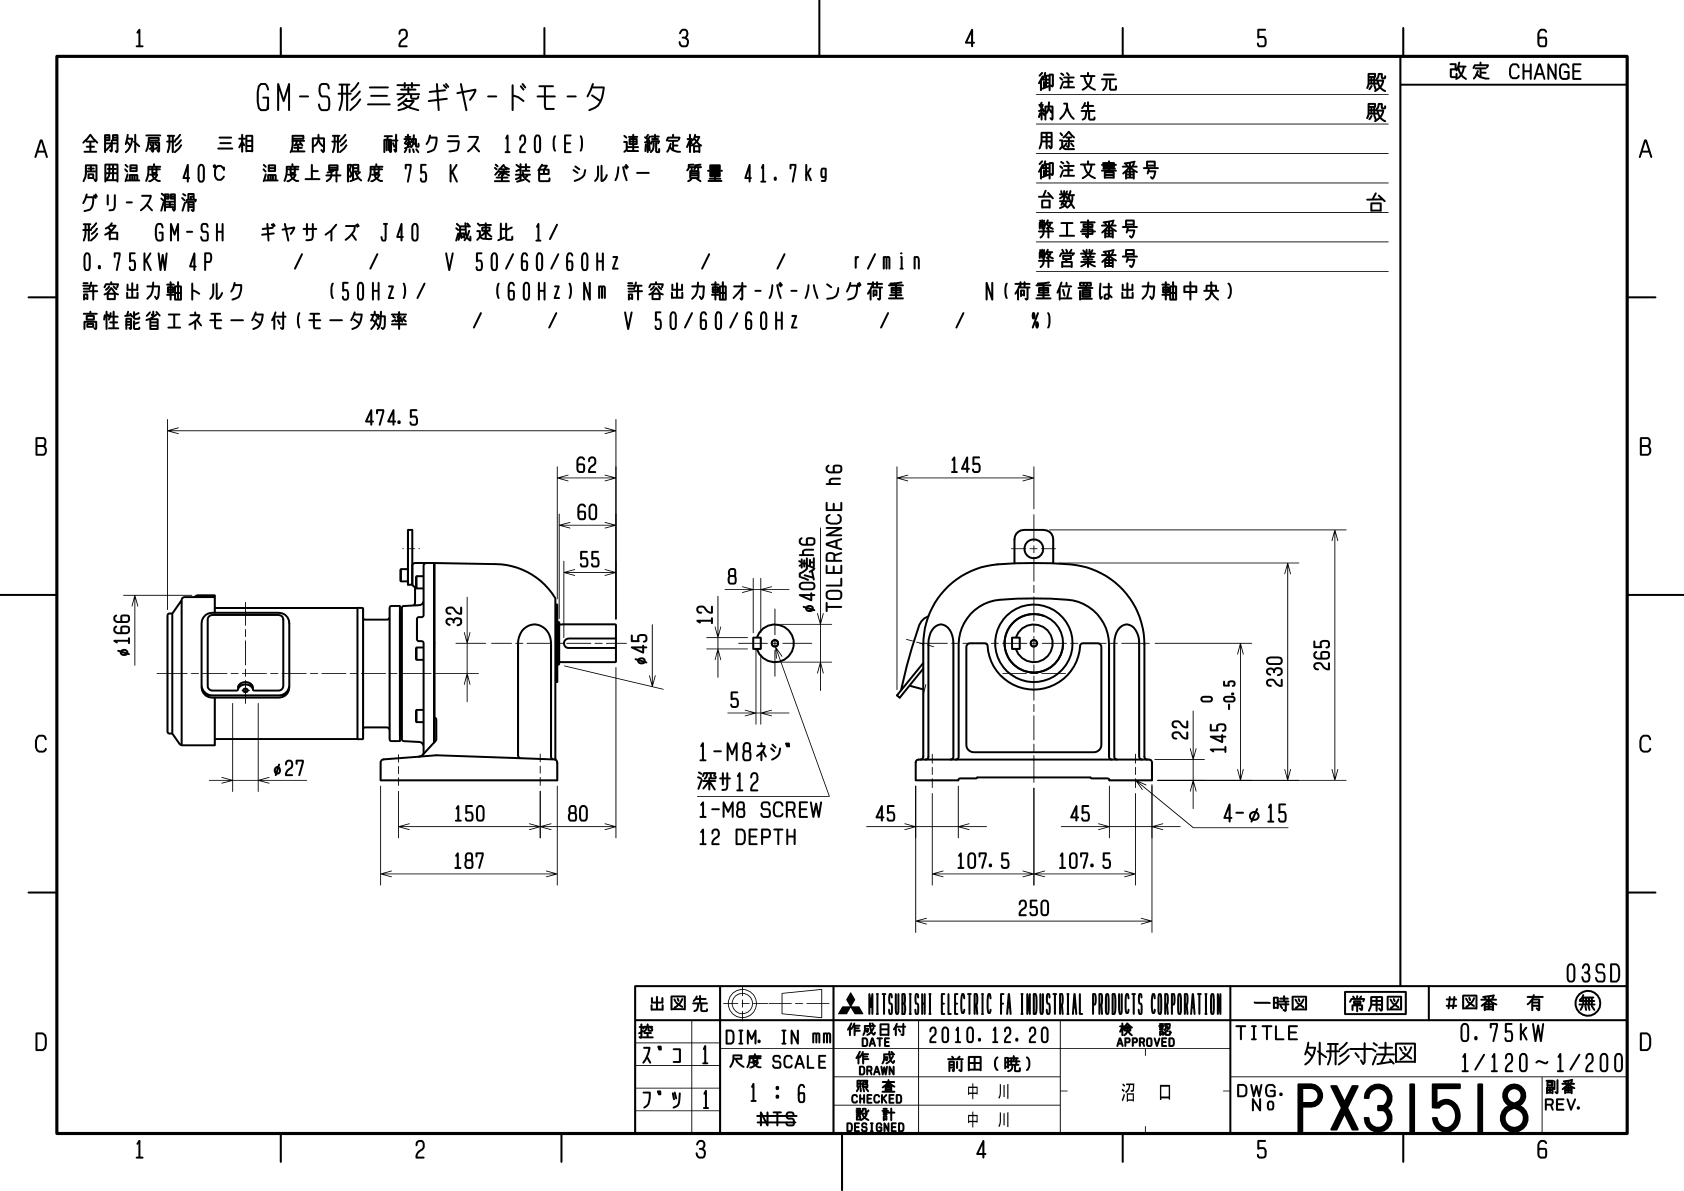GM_S_高効率屋内＿三相_脚: (4, 12, 1672, 1190)
